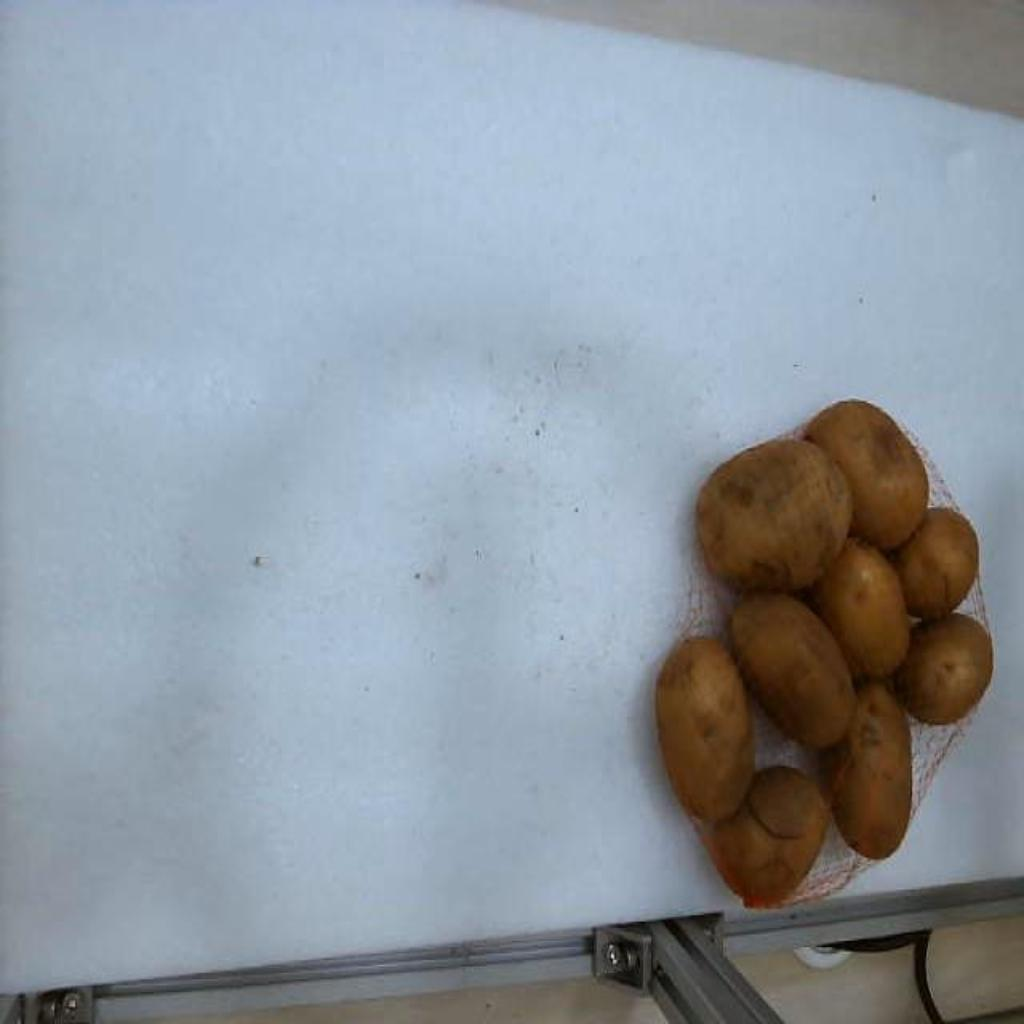potato: (696, 440, 852, 591), (730, 595, 856, 748), (804, 400, 928, 551), (656, 637, 754, 820), (714, 765, 828, 905), (824, 683, 910, 857), (810, 539, 910, 677), (894, 613, 994, 724), (890, 507, 978, 617)
